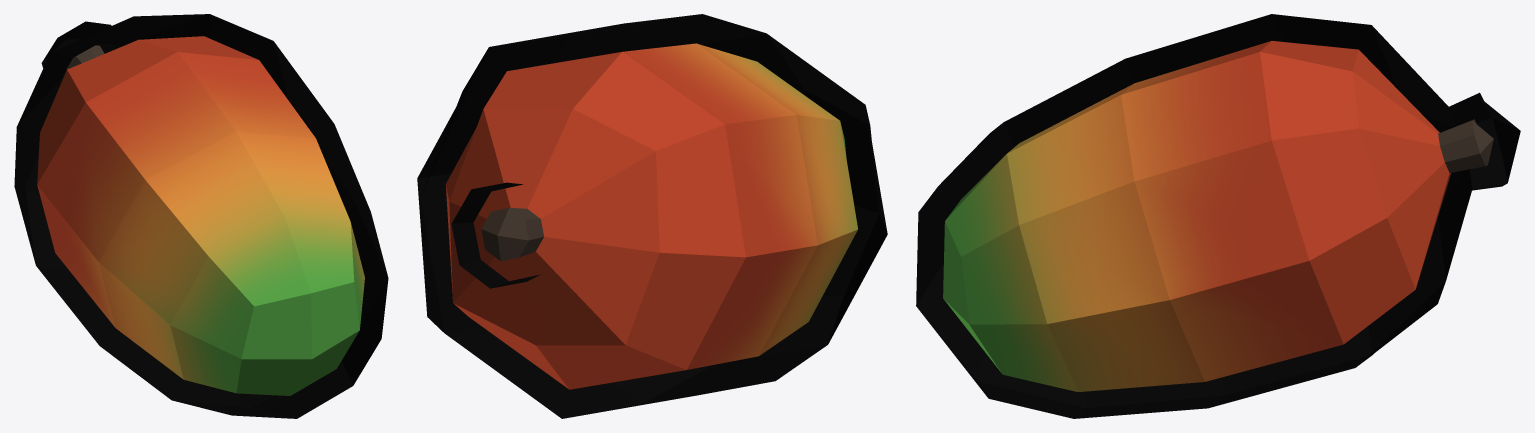
Rendered from mango.fbx.
3 views of the same model, side by side, from view 1: azimuth 30°, elevation 25°; view 2: azimuth 150°, elevation 25°; view 3: azimuth 270°, elevation 25° (orthographic). The views are drawn at different scales.
Visible parts, largest first — view 1: Mango; view 2: Mango; view 3: Mango.
Boxes of the visible parts, bbox=[...] form: Mango: bbox=[14, 14, 388, 418]; Mango: bbox=[417, 14, 887, 418]; Mango: bbox=[916, 14, 1520, 418].
Bounding box in the file's own units: 67.27 × 74.5 × 107.
